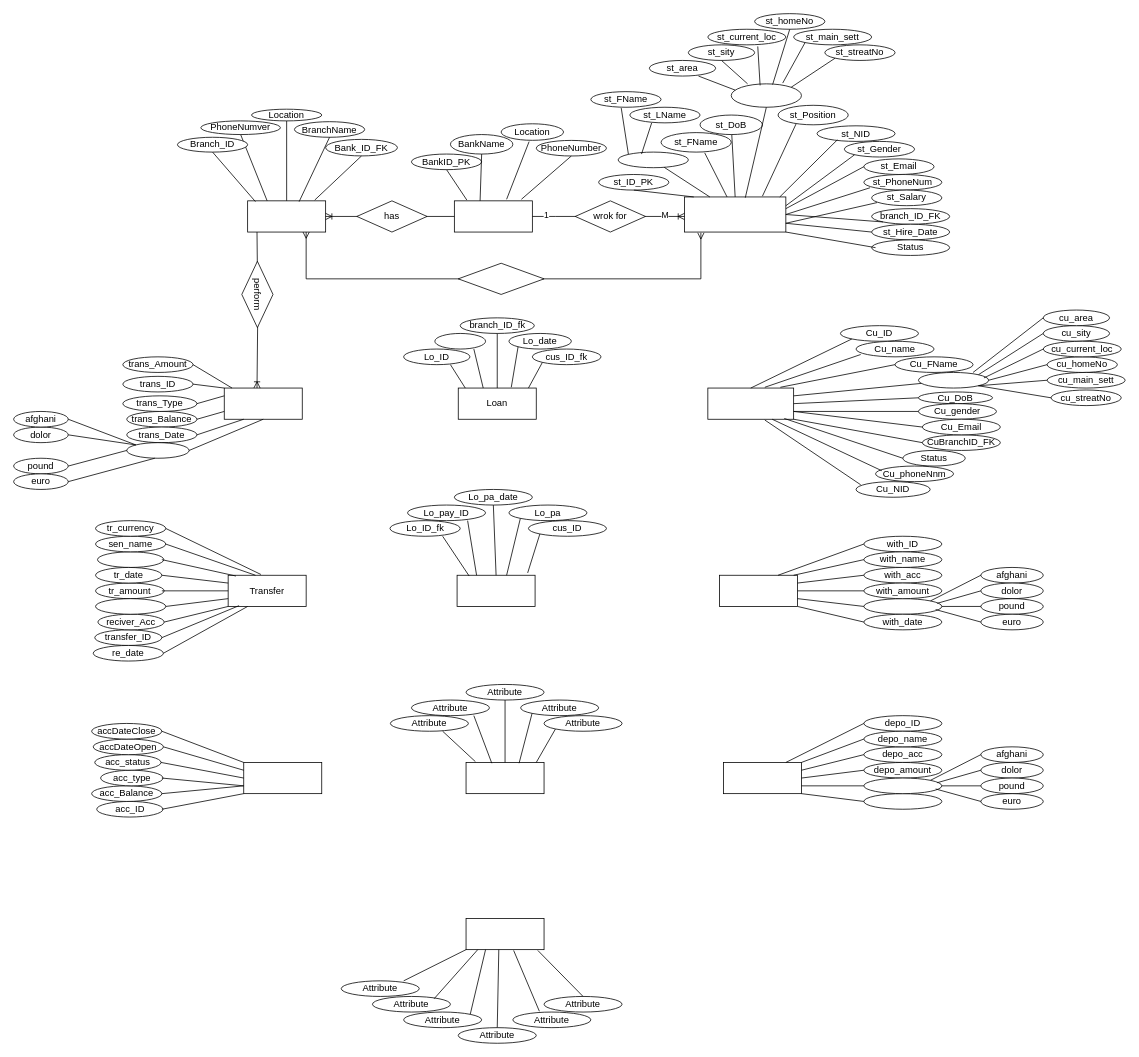
This 1139x1057 diagram has some shape labels left out. The shapes that lost their labels are listed below. From the top down, each one's box as (x1, y1, x2, y2) in pixels, then its label:
(730, 83, 801, 107): st_Address
(617, 151, 688, 168): st_Name
(247, 200, 326, 232): Bank_Banches
(454, 200, 532, 232): Bank
(684, 196, 786, 232): Staff/personnel
(457, 262, 544, 294): manage
(434, 333, 486, 349): Lo_amo
(918, 372, 989, 388): Cu_Address
(223, 387, 302, 419): Transaction
(707, 387, 794, 419): Customer
(126, 442, 189, 458): currency
(97, 551, 164, 567): sen_acc
(95, 598, 166, 614): re_name
(456, 574, 535, 606): Laon_Payment
(719, 574, 798, 606): Withdraw
(863, 598, 942, 614): with_currency
(243, 762, 322, 794): Account
(465, 762, 544, 794): ATM
(723, 762, 801, 794): Deposit
(863, 777, 942, 794): depo_currency
(863, 793, 942, 809): depo_date
(465, 918, 544, 950): bank_card
